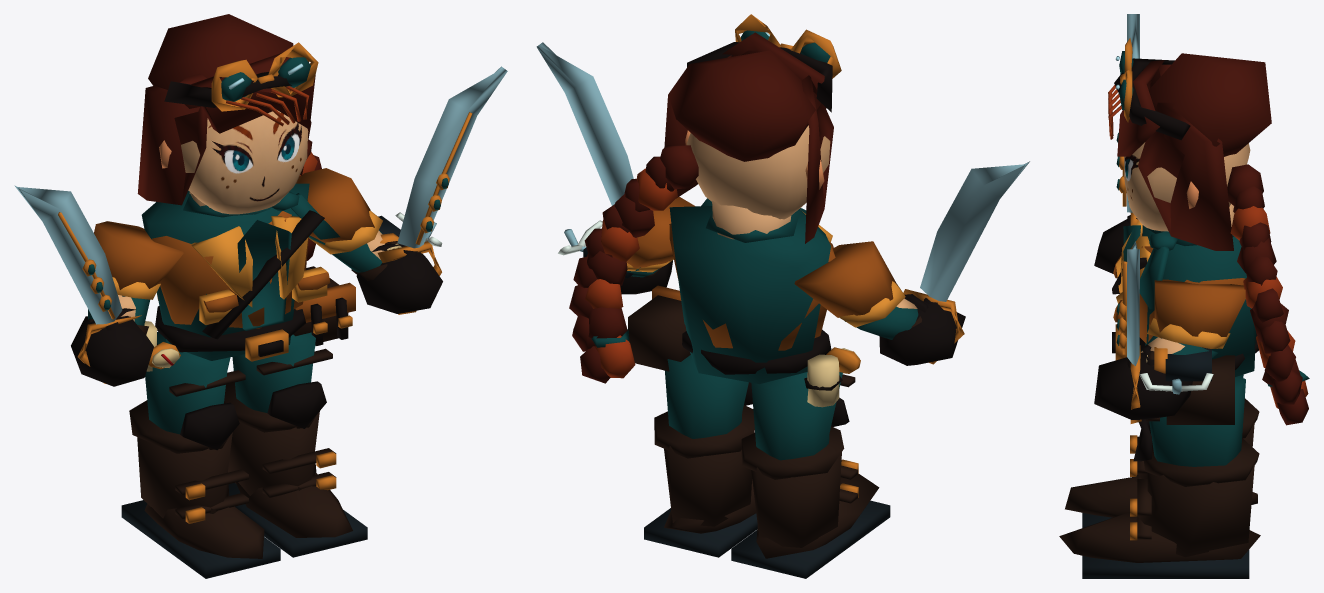
File: explorer.glb
The picture shows the model from 3 angles, left to right: view 1: azimuth 30°, elevation 25°; view 2: azimuth 150°, elevation 25°; view 3: azimuth 270°, elevation 25°; orthographic projection.
Visible parts, largest first — view 1: Head_Geometry, Body_Geometry, Leg_R_Geometry, Leg_L_Geometry, Arm_L_Geometry, Arm_R_Geometry, Weapon_Pistol_Geometry, Weapon_Cutlass_Geometry; view 2: Head_Geometry, Body_Geometry, Leg_R_Geometry, Leg_L_Geometry, Arm_R_Geometry, Weapon_Cutlass_Geometry, Weapon_Pistol_Geometry, Arm_L_Geometry; view 3: Head_Geometry, Leg_L_Geometry, Arm_L_Geometry, Body_Geometry, Leg_R_Geometry, Weapon_Pistol_Geometry, Arm_R_Geometry, Weapon_Cutlass_Geometry.
Part boxes in pixels (left/top/right/bottom): Head_Geometry: left=137, top=14, right=321, bottom=260; Body_Geometry: left=141, top=183, right=355, bottom=371; Leg_R_Geometry: left=121, top=332, right=280, bottom=578; Leg_L_Geometry: left=224, top=332, right=367, bottom=557; Arm_L_Geometry: left=296, top=168, right=442, bottom=313; Arm_R_Geometry: left=71, top=221, right=183, bottom=386; Weapon_Pistol_Geometry: left=377, top=66, right=507, bottom=314; Weapon_Cutlass_Geometry: left=14, top=185, right=141, bottom=383; Head_Geometry: left=569, top=14, right=841, bottom=383; Body_Geometry: left=628, top=198, right=860, bottom=407; Leg_R_Geometry: left=731, top=372, right=890, bottom=578; Leg_L_Geometry: left=644, top=355, right=757, bottom=557; Arm_R_Geometry: left=794, top=241, right=965, bottom=365; Weapon_Cutlass_Geometry: left=903, top=161, right=1029, bottom=364; Weapon_Pistol_Geometry: left=536, top=42, right=633, bottom=205; Arm_L_Geometry: left=558, top=196, right=695, bottom=294; Head_Geometry: left=1108, top=38, right=1309, bottom=425; Leg_L_Geometry: left=1059, top=376, right=1260, bottom=578; Arm_L_Geometry: left=1094, top=279, right=1245, bottom=420; Body_Geometry: left=1112, top=221, right=1258, bottom=424; Leg_R_Geometry: left=1065, top=374, right=1259, bottom=527; Weapon_Pistol_Geometry: left=1116, top=241, right=1143, bottom=423; Arm_R_Geometry: left=1094, top=219, right=1130, bottom=273; Weapon_Cutlass_Geometry: left=1116, top=14, right=1139, bottom=225.
Bounding box in the file's own units: 2.29 × 2.22 × 1.03.
Materials: 2 (2 with a texture image).
